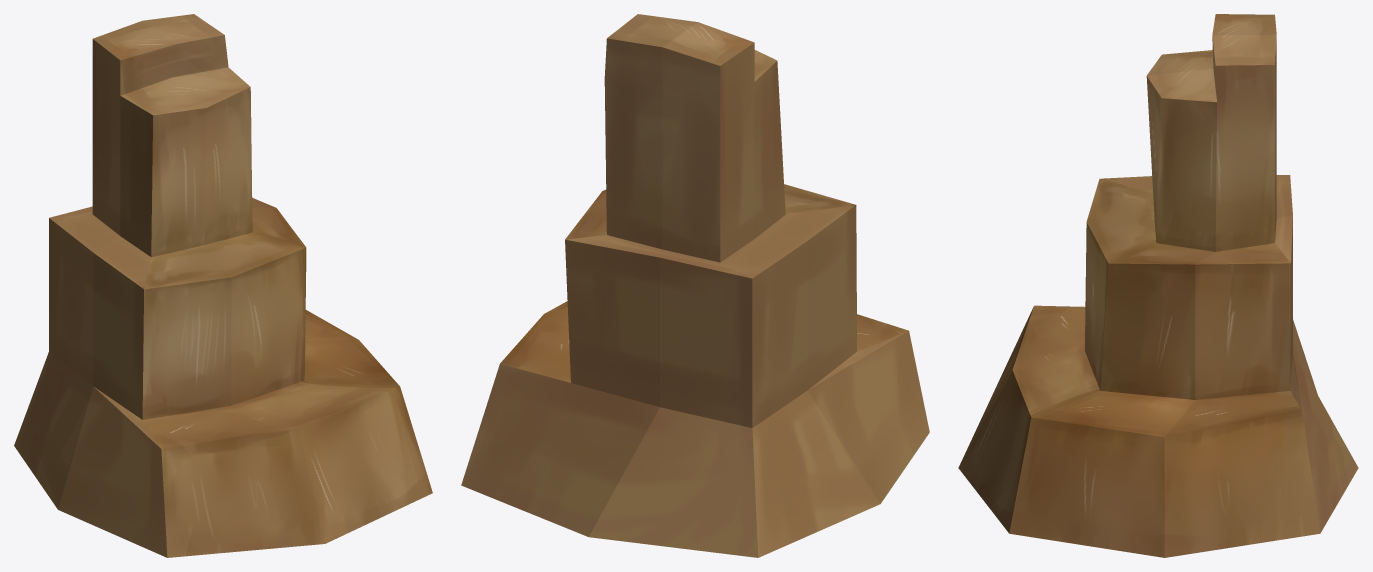
Rendered from skala.fbx.
3 views of the same model, side by side, from view 1: azimuth 30°, elevation 25°; view 2: azimuth 150°, elevation 25°; view 3: azimuth 270°, elevation 25° (orthographic). The views are drawn at different scales.
Parts seen in each view (by area): view 1: center; view 2: center; view 3: center.
Part boxes in pixels (box(x1,y1,x2,y2)): center: box(14, 14, 432, 557); center: box(461, 14, 929, 557); center: box(958, 14, 1358, 557).
Size of the model in its own units: 5.74 by 6.55 by 5.65.
